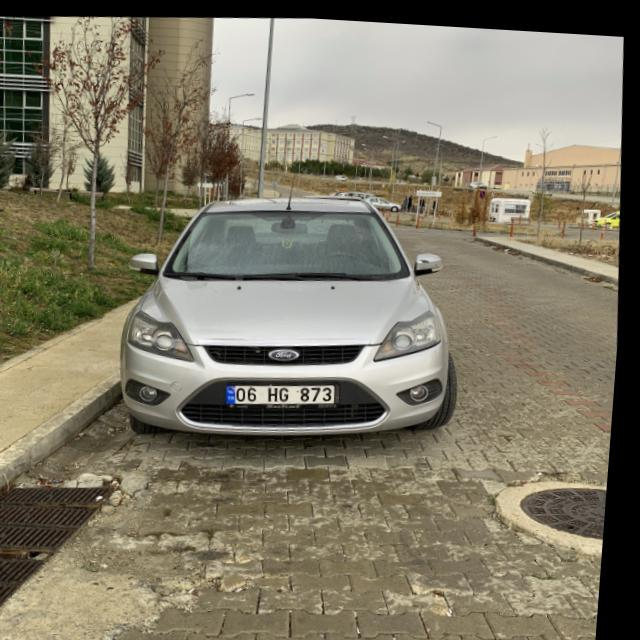license_plate: (231, 375, 346, 406)
